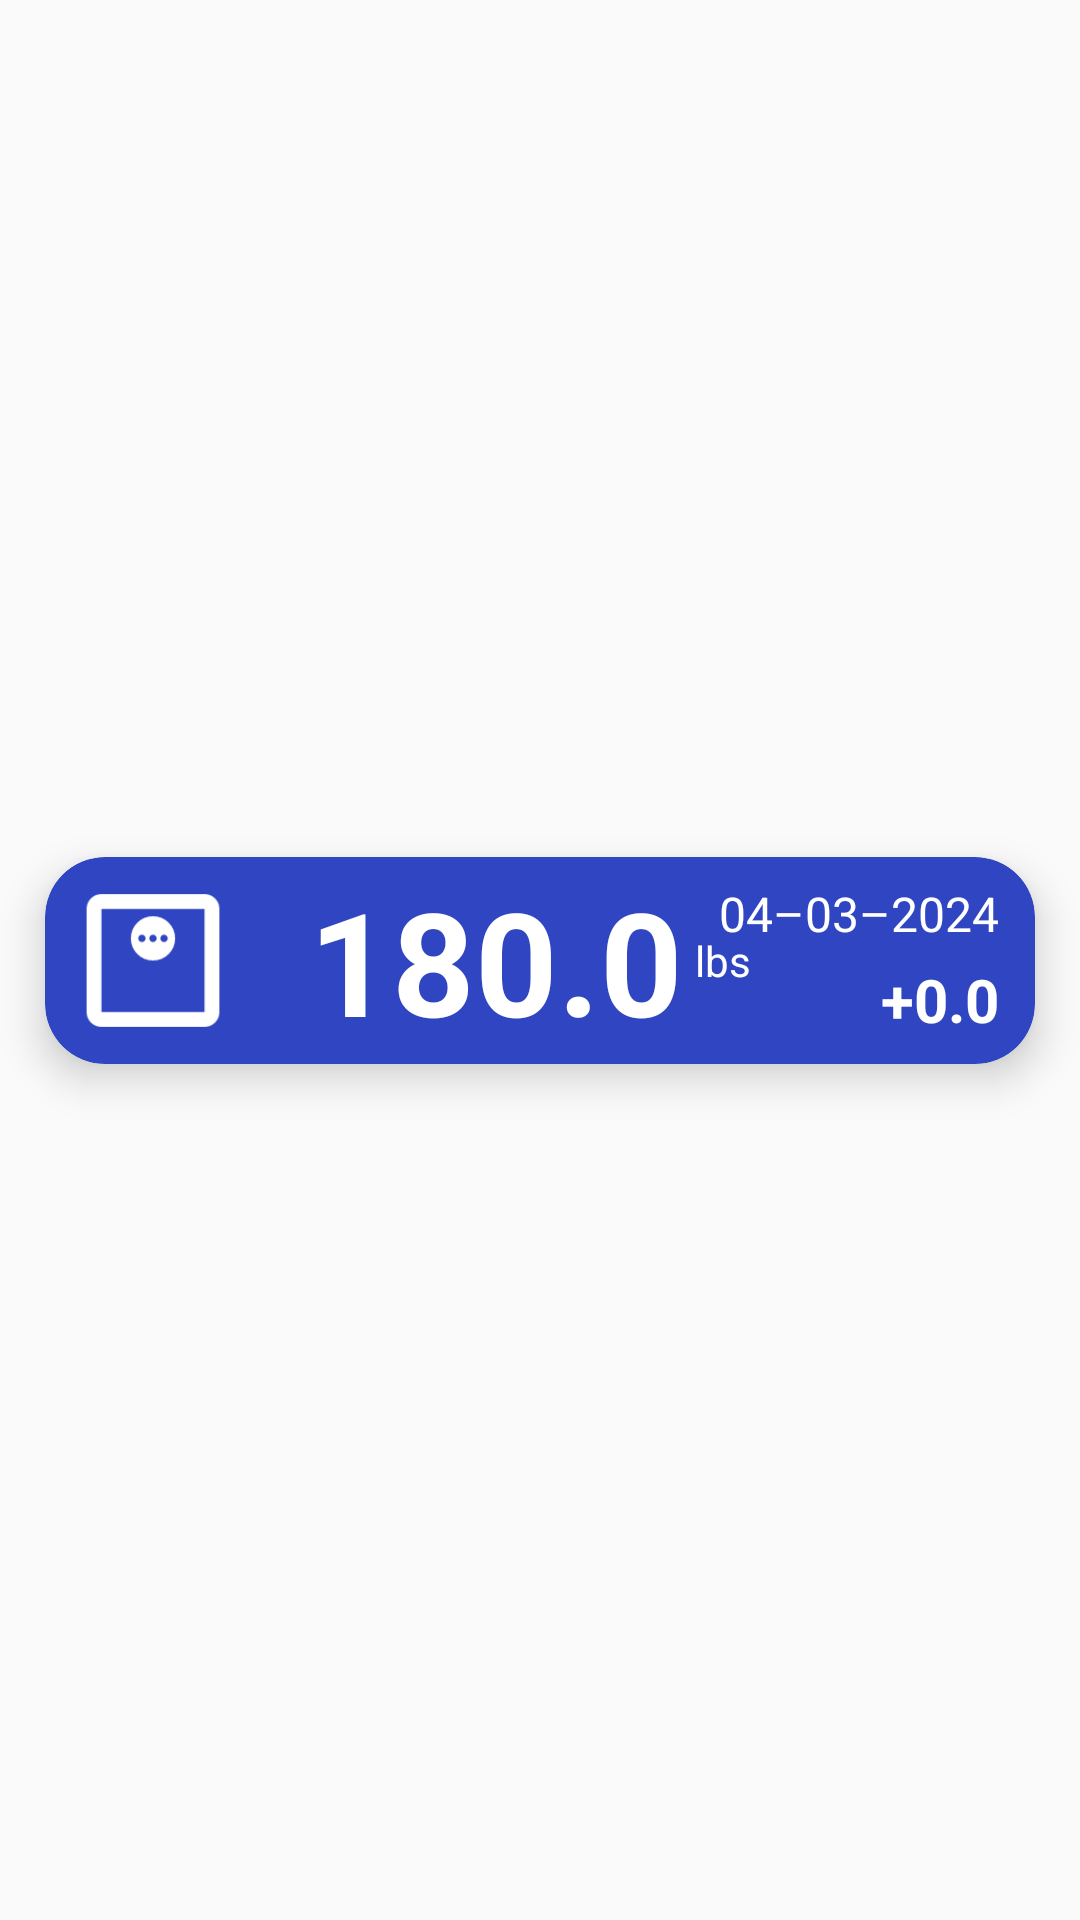

Icons on this 1080px x 1920px Android screen, each with the point to tap as (x=x, y=y):
Image of Scale: (x=153, y=960)
